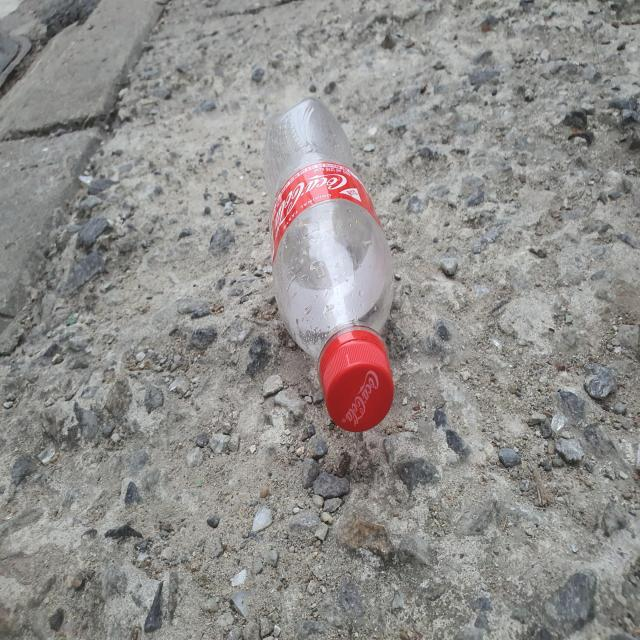plastic: (264, 97, 394, 432)
